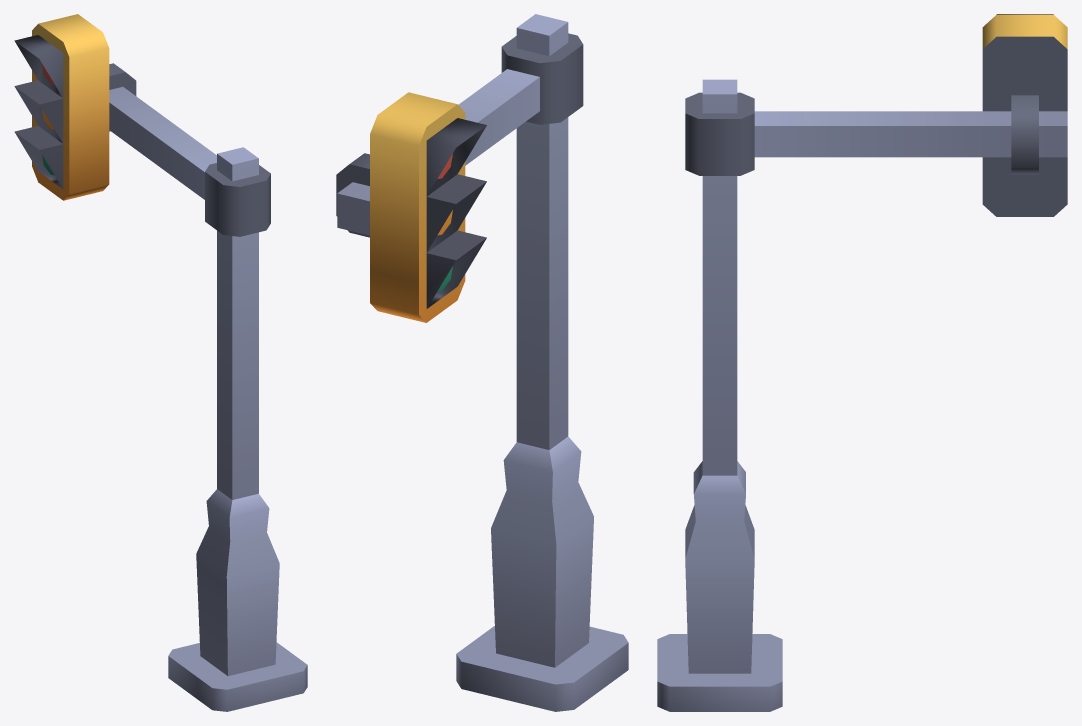
The model's file is nc_traffic_light_hanging.glb.
The picture shows the model from 3 angles, left to right: view 1: azimuth 30°, elevation 25°; view 2: azimuth 150°, elevation 25°; view 3: azimuth 270°, elevation 25°; orthographic projection. The views are drawn at different scales.
Visible parts, largest first — view 1: traffic-light-hanging; view 2: traffic-light-hanging; view 3: traffic-light-hanging.
Part boxes in pixels (left/top/right/bottom): traffic-light-hanging: left=14, top=14, right=307, bottom=711; traffic-light-hanging: left=336, top=14, right=628, bottom=711; traffic-light-hanging: left=657, top=14, right=1067, bottom=711.
Bounding box in the file's own units: 1.27 × 5.5 × 3.19.
1 material, 1 textured.
